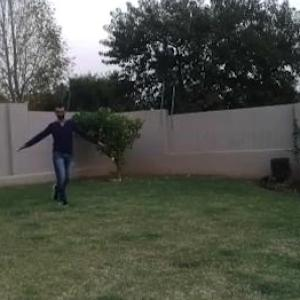land: (25, 96, 113, 200)
